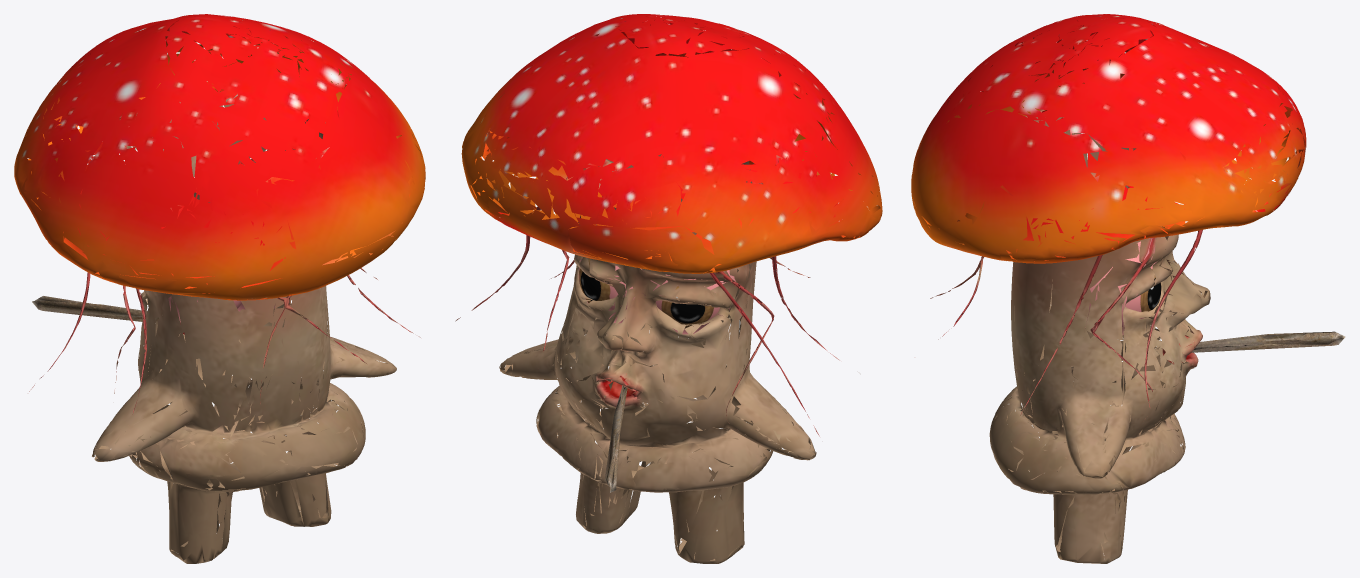
Rendered from mushroom.glb.
The picture shows the model from 3 angles, left to right: view 1: azimuth 30°, elevation 25°; view 2: azimuth 150°, elevation 25°; view 3: azimuth 270°, elevation 25°; orthographic projection. The views are drawn at different scales.
Visible parts, largest first — view 1: PolySphere, Jibbit; view 2: PolySphere, PM3D_Sphere3D1, Jibbit, PM3D_Sphere3D2; view 3: PolySphere, Jibbit, PM3D_Sphere3D2.
Part boxes in pixels (<box>): PolySphere: <box>14,14,425,563</box>; Jibbit: <box>32,296,159,322</box>; PolySphere: <box>455,14,882,563</box>; PM3D_Sphere3D1: <box>642,270,735,334</box>; Jibbit: <box>604,385,627,492</box>; PM3D_Sphere3D2: <box>578,258,641,323</box>; PolySphere: <box>911,14,1306,563</box>; Jibbit: <box>1158,331,1345,353</box>; PM3D_Sphere3D2: <box>1085,246,1161,334</box>.
Size of the model in its own units: 0.6878 by 0.9263 by 0.7267.
Materials: 4 (4 with a texture image).
